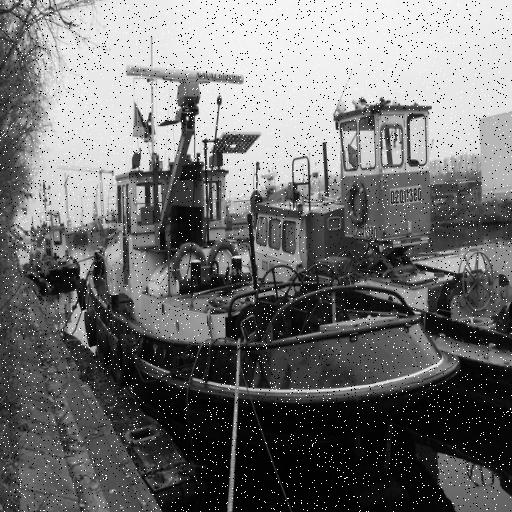tugboat: (75, 58, 464, 481)
